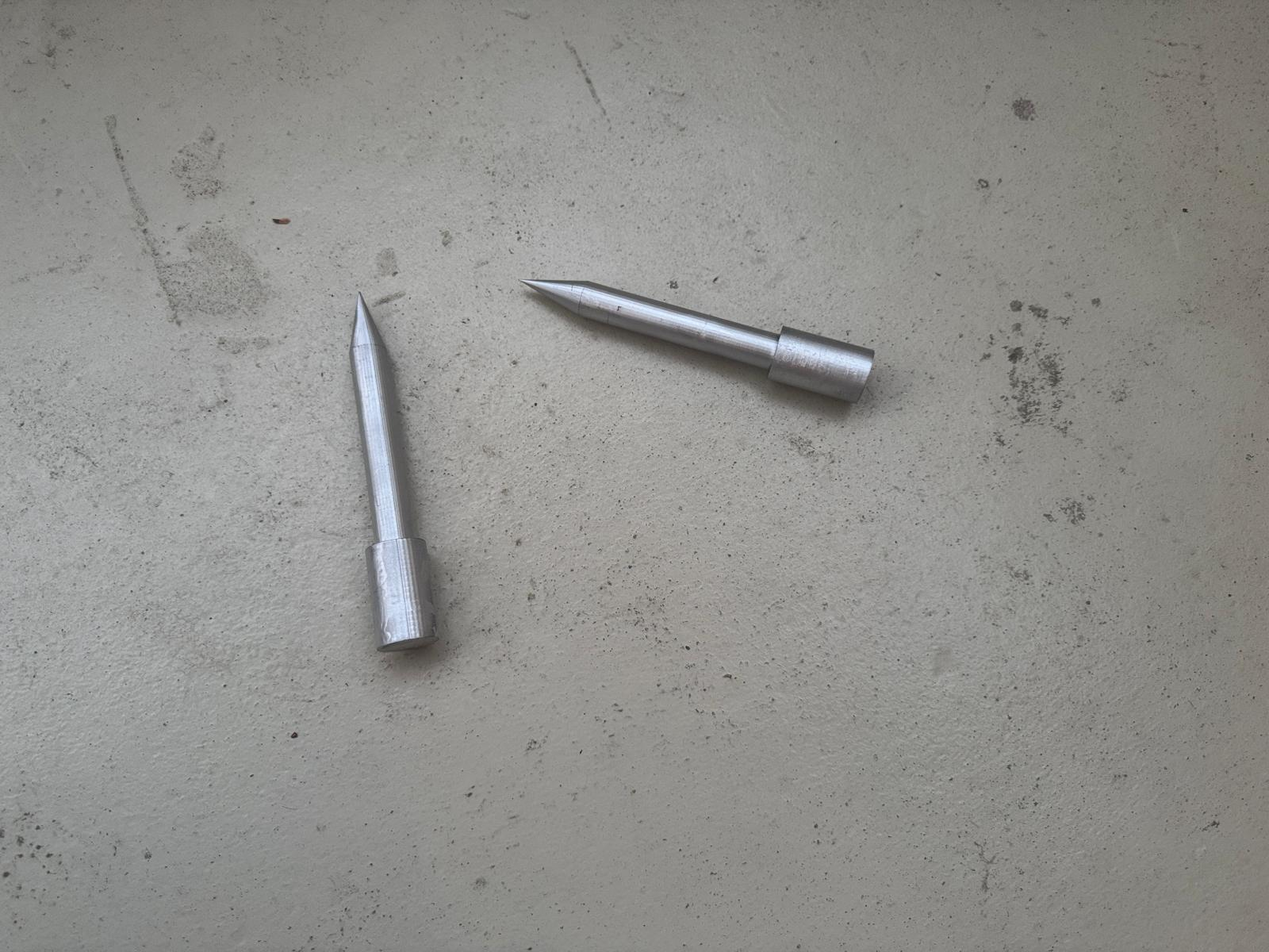probes: (518, 276, 872, 403), (347, 295, 437, 650)
